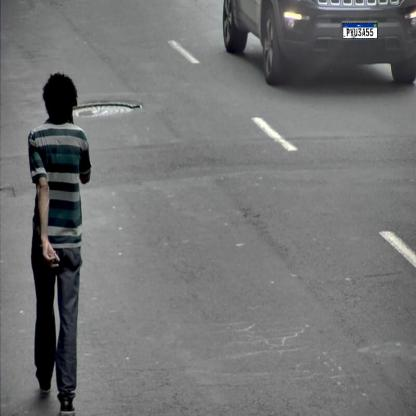PlacaM: (342, 23, 378, 39)
